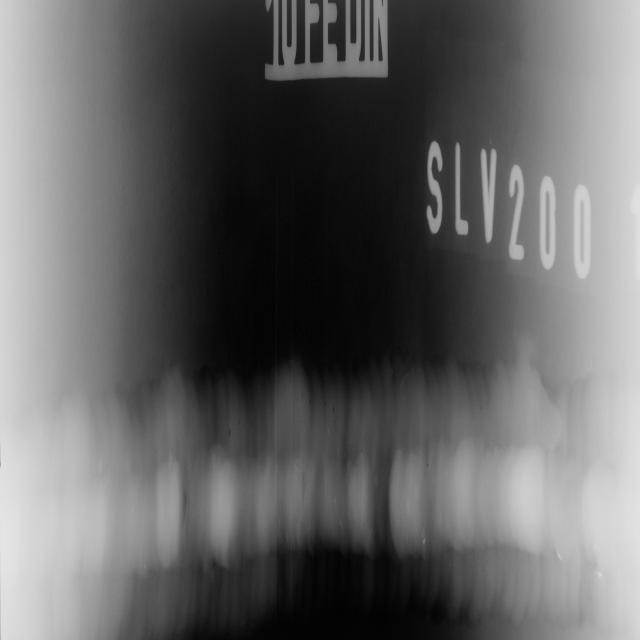FF: (372, 518, 453, 575), (419, 586, 501, 632), (305, 520, 357, 573), (532, 352, 562, 411), (495, 530, 531, 563), (271, 526, 297, 568), (203, 548, 231, 585), (180, 483, 191, 530), (397, 456, 402, 472)
PO: (363, 516, 368, 538), (322, 394, 328, 410), (332, 402, 337, 420), (228, 424, 232, 446), (360, 441, 364, 460), (308, 394, 313, 408), (426, 455, 430, 472), (301, 388, 304, 403), (296, 393, 299, 406), (433, 448, 434, 452), (439, 437, 440, 441)
